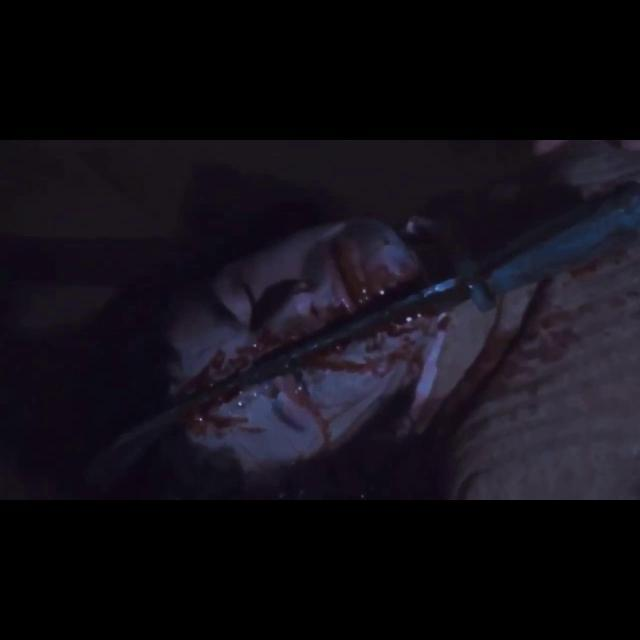blood: (88, 220, 640, 499)
